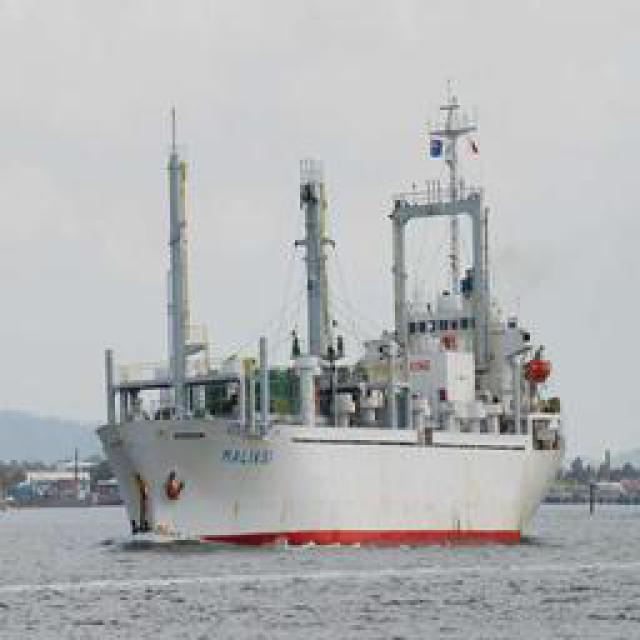Ship: (96, 61, 566, 554)
